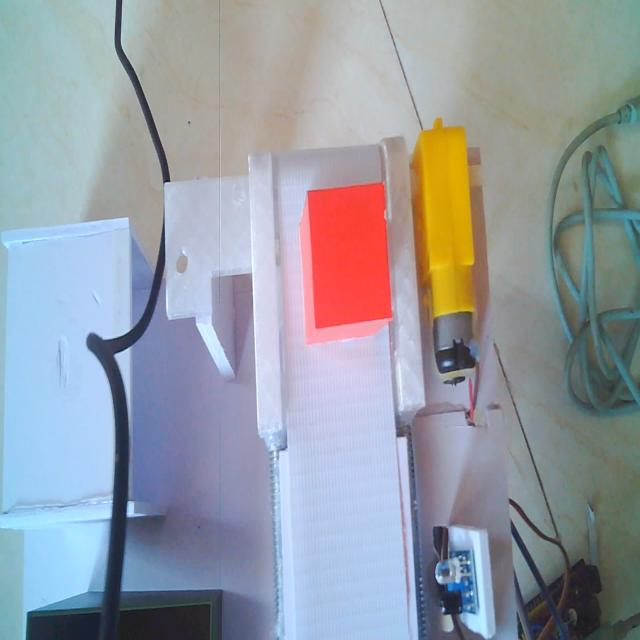red: (296, 181, 396, 353)
